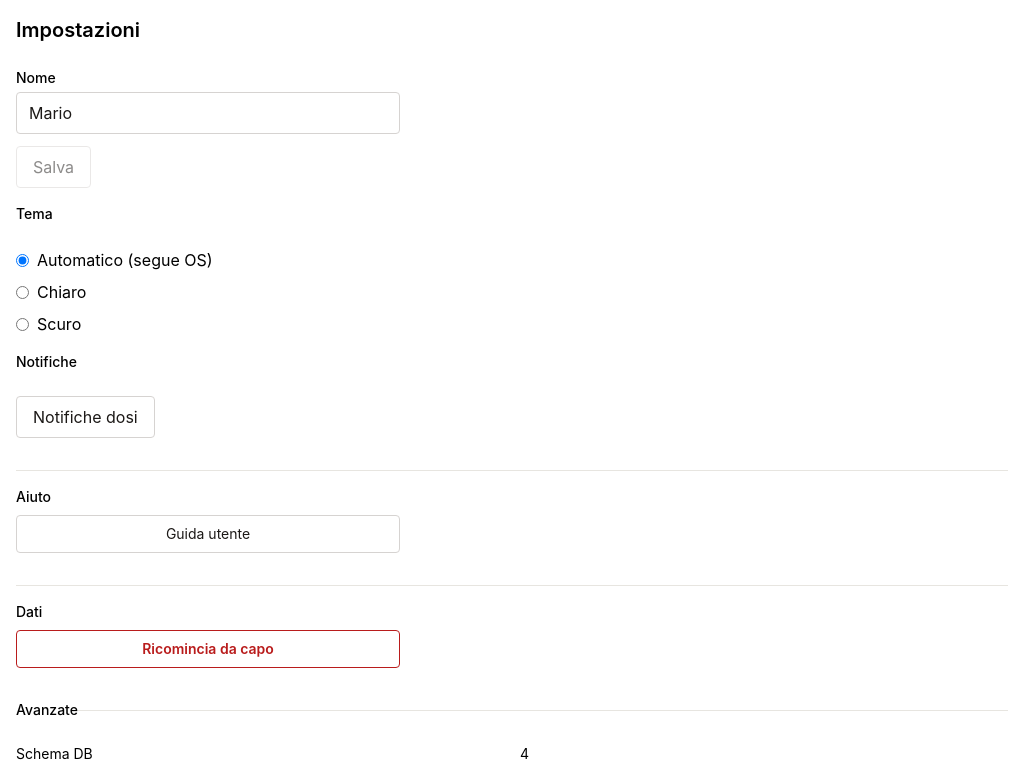
Test: ImpostazioniTab — Sezione Nome (CP4) › input vuoto (trim) disabilita Salva e mostra hint inline
Clear the field labelled "Nome" at (208, 113), box [16,92,400,134]
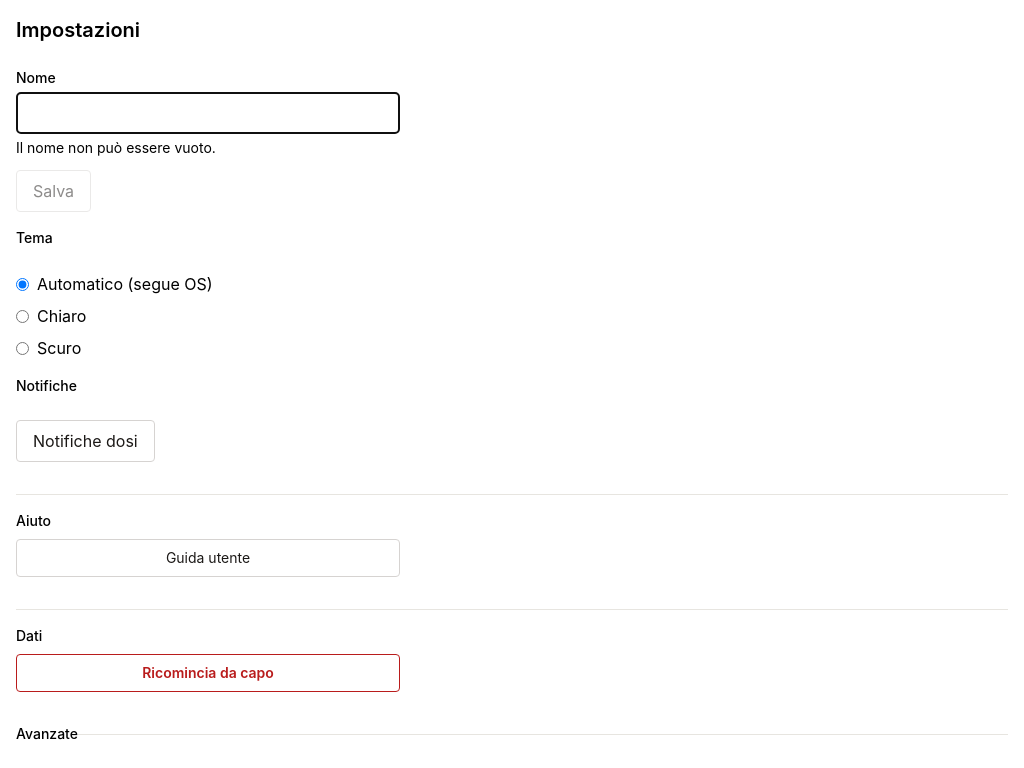
Expected: the button "Salva" is disabled, [16,170,91,212]
Expected: the message shows "non può essere vuoto", [16,139,216,156]
